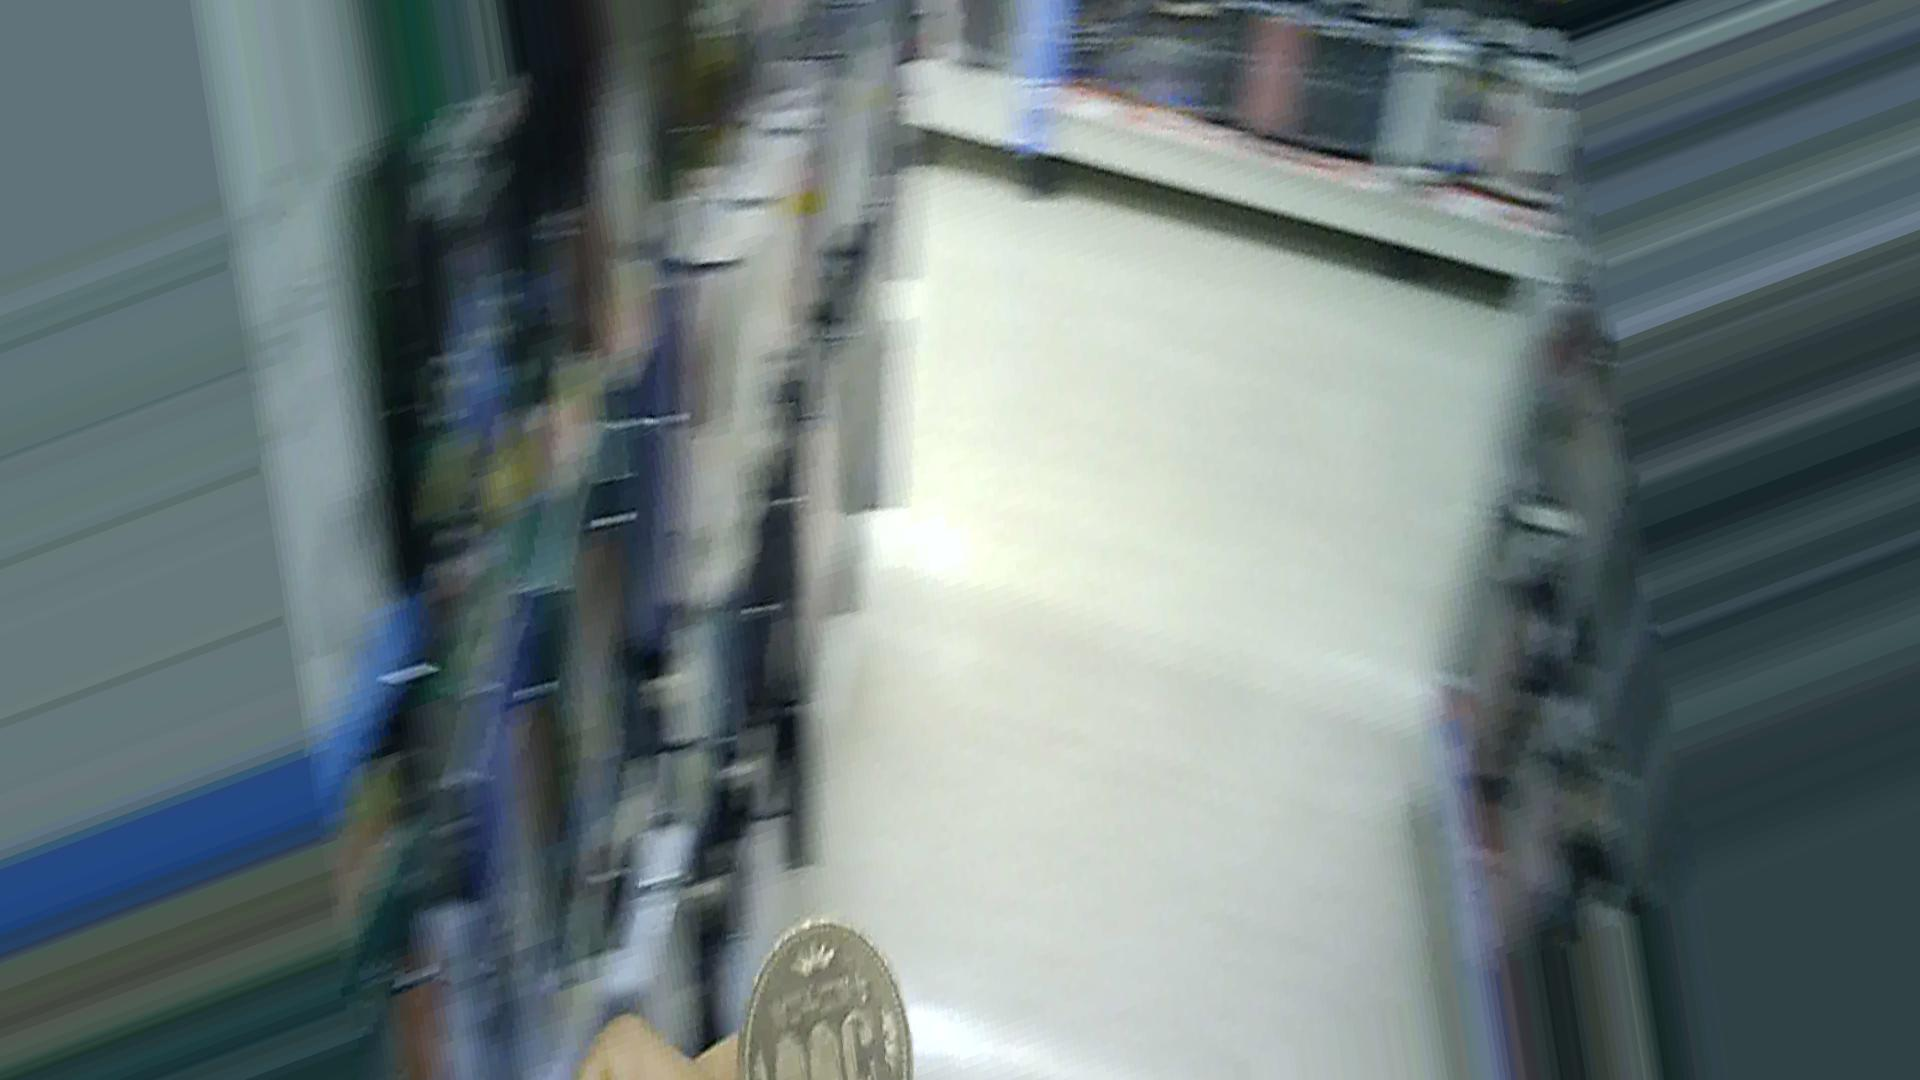500 Yen: (735, 922, 913, 1079)
